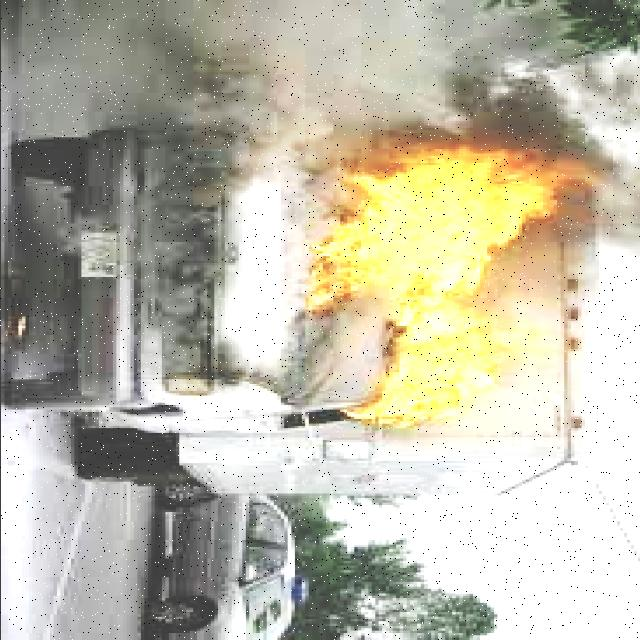api: (302, 148, 592, 436)
